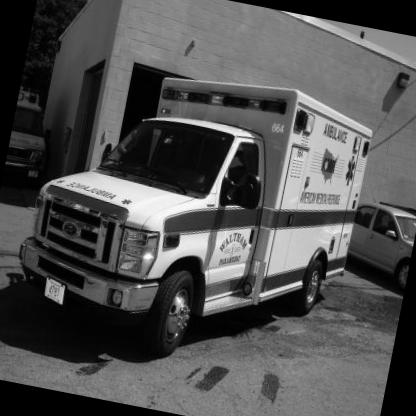ambulance: (1, 26, 406, 393)
